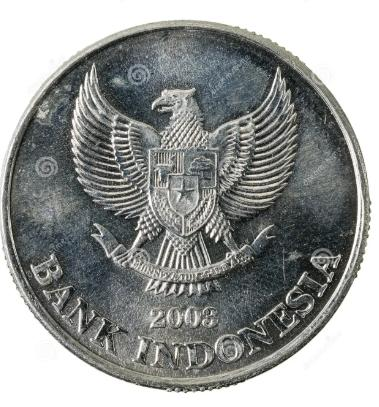coin_200_e2003: (2, 15, 374, 397)
